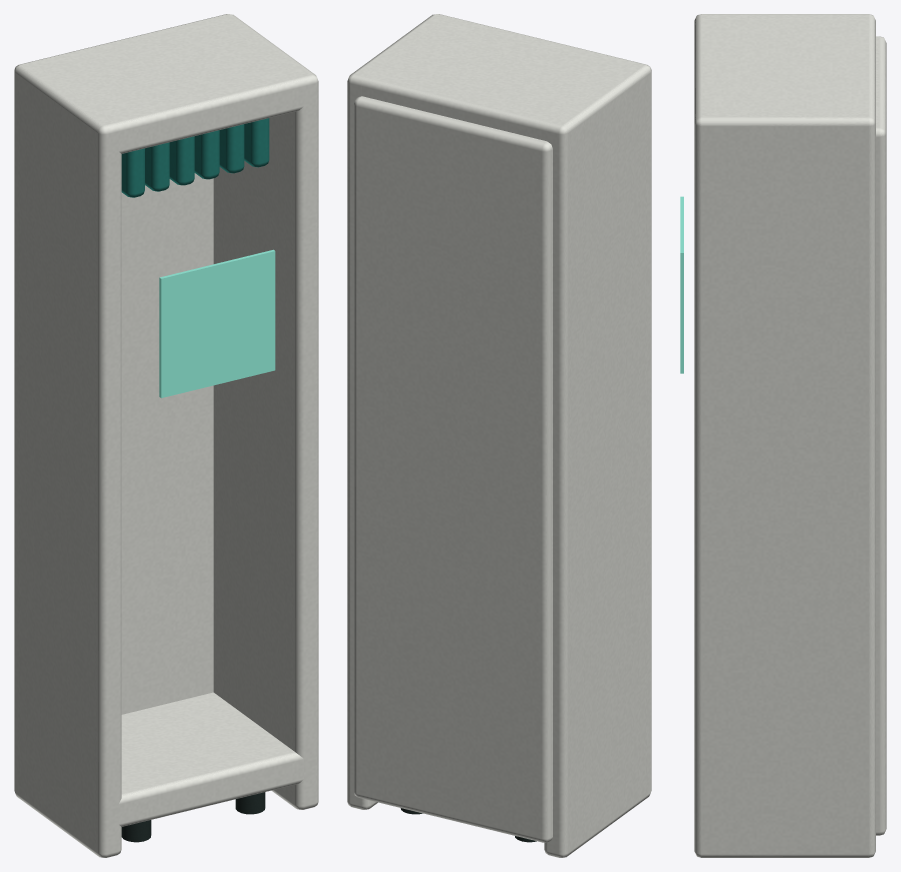
File: detail-charging-0.glb
3 renders of one model, left to right at view 1: azimuth 30°, elevation 25°; view 2: azimuth 150°, elevation 25°; view 3: azimuth 270°, elevation 25°, orthographic.
Parts seen in each view (by area): view 1: cabinet_side (×2), cabinet_back, cabinet_cap (×2), label_screen, power_bank (×6); view 2: cabinet_back, cabinet_side (×2), cabinet_cap; view 3: cabinet_side (×2), cabinet_cap, cabinet_back, label_screen.
Boxes of the visible parts, x1=… form: cabinet_side (×2): x1=14, y1=14, x2=318, y2=857; cabinet_back: x1=121, y1=173, x2=213, y2=714; cabinet_cap (×2): x1=31, y1=17, x2=303, y2=826; label_screen: x1=159, y1=249, x2=275, y2=398; power_bank (×6): x1=121, y1=118, x2=269, y2=197; cabinet_back: x1=353, y1=96, x2=552, y2=842; cabinet_side (×2): x1=347, y1=14, x2=651, y2=857; cabinet_cap: x1=362, y1=17, x2=634, y2=141; cabinet_side (×2): x1=694, y1=14, x2=875, y2=857; cabinet_cap: x1=694, y1=20, x2=875, y2=117; cabinet_back: x1=876, y1=36, x2=886, y2=835; label_screen: x1=680, y1=196, x2=683, y2=373.
Size of the model in its own units: 0.425 by 1.35 by 0.3405.
4 materials, 3 textured.
